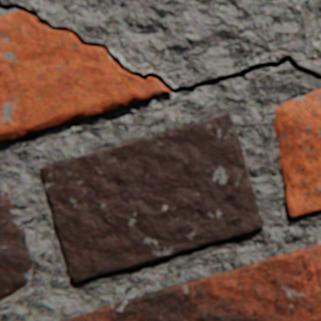brick: (41, 113, 262, 282), (61, 244, 320, 320), (274, 89, 320, 217), (0, 191, 33, 299)
broken_brick: (0, 11, 170, 142)
crack: (0, 0, 320, 92)
